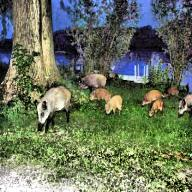boar: (32, 81, 70, 127), (103, 96, 129, 117), (138, 90, 168, 108), (172, 92, 192, 118), (90, 86, 114, 104), (147, 101, 167, 118), (80, 74, 110, 85)
